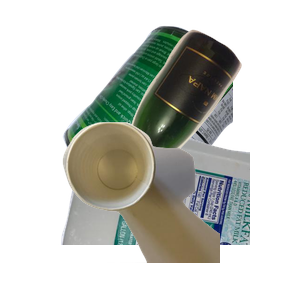glass: (87, 27, 300, 207)
metal: (60, 23, 300, 203)
plastic: (58, 120, 298, 300)
trash: (60, 120, 300, 300)
